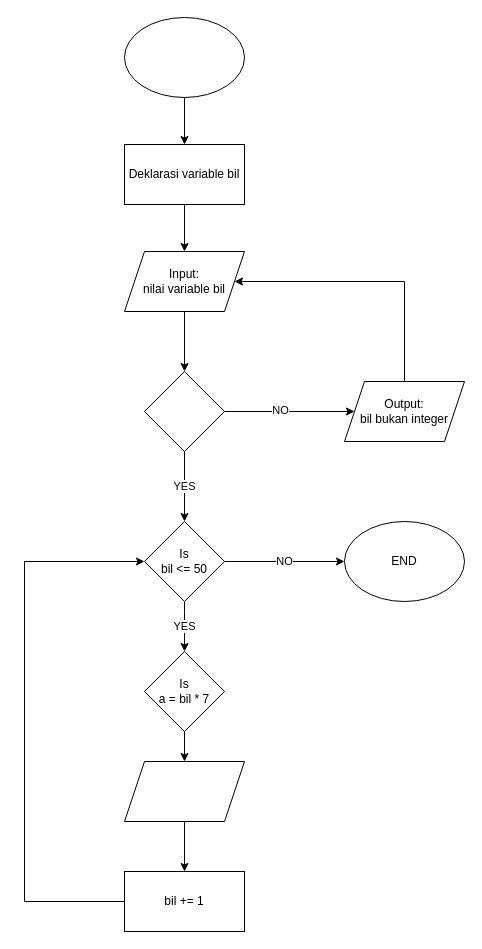
This 482x949 diagram has some shape labels left out. The shapes that lost their labels are listed below. From the top down, each one's centre as x and y in pixels, then its label:
At (184,57): "STAR".
At (184,411): "Is variable bil type data adalah integer".
At (184,791): "Output: cetak nilai a".
